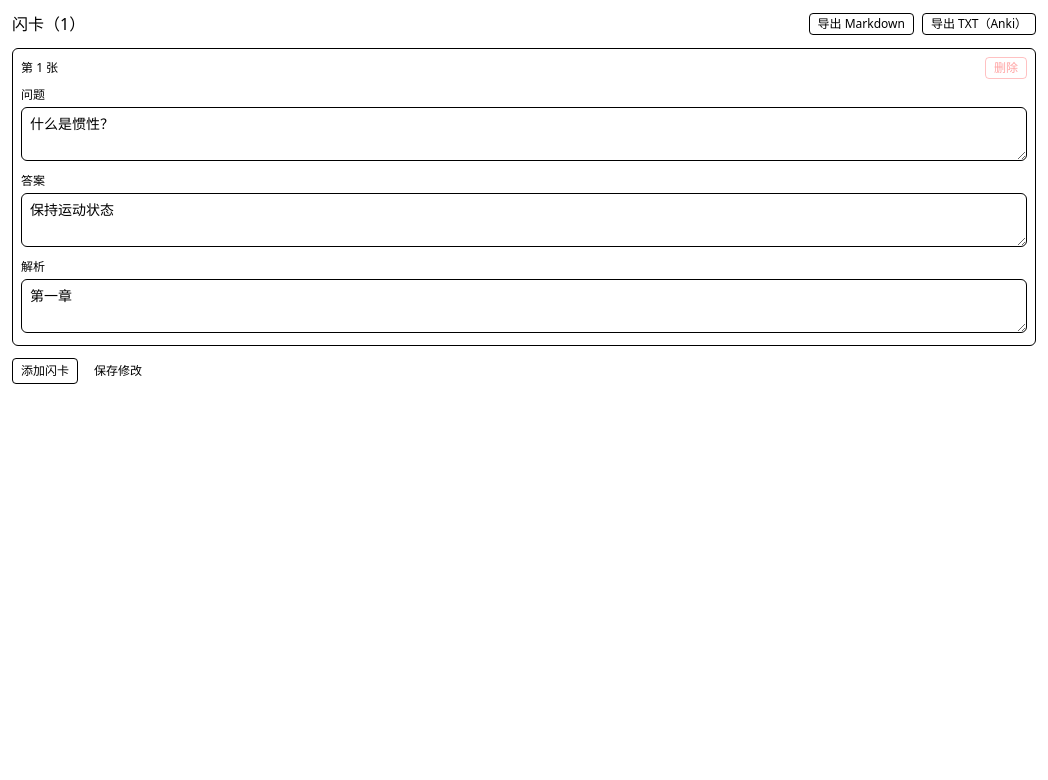
Test: FlashcardEditor › adds and removes cards
This screenshot has width=1048, height=780.
What coordinates should you click on to do the following:
click the button "添加闪卡"
I would click on:
 (45, 371)
Its box is [12, 358, 78, 384].
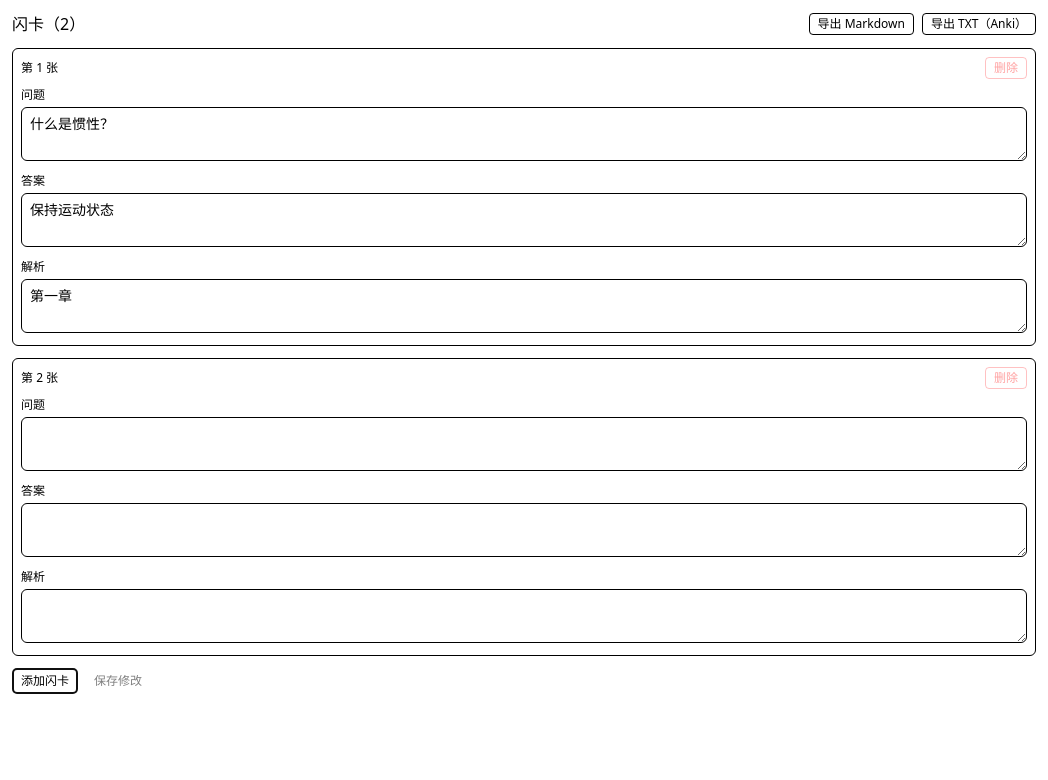
expect the text box named "问题 2" is shown: met, box [21, 417, 1027, 471]
What coordinates should you click on to do the following:
click the 1st button "删除"
I would click on:
 (1006, 68)
Its box is [985, 57, 1027, 79].
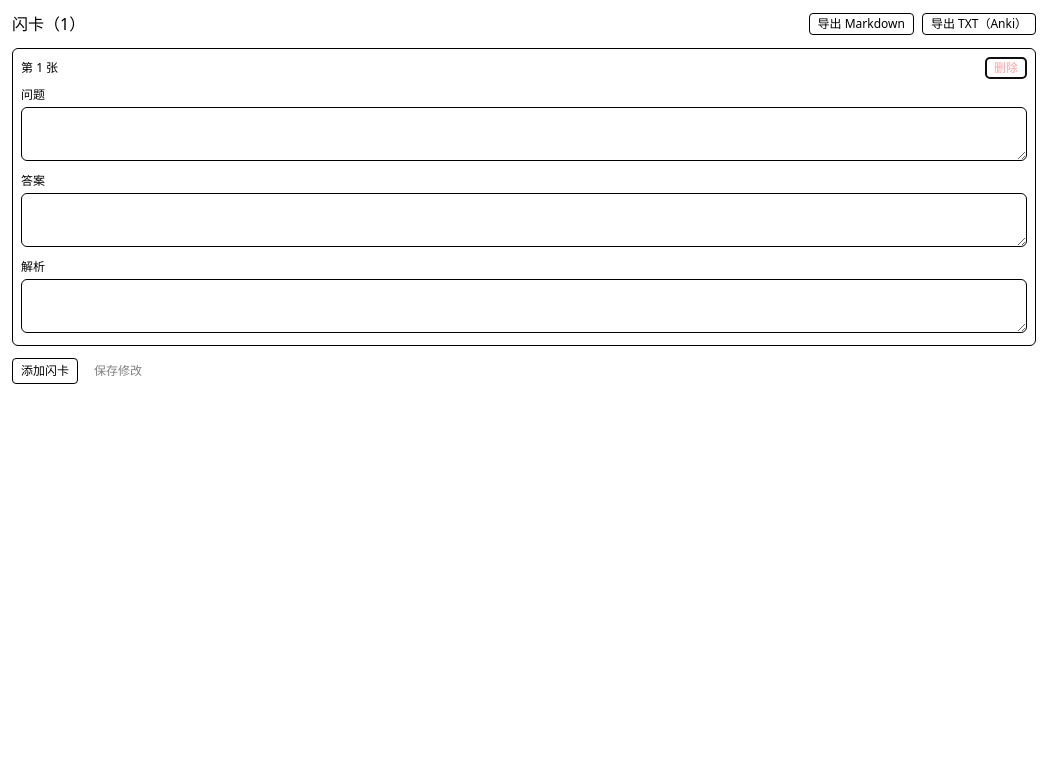
expect the heading "闪卡（1）" is shown: met, box [12, 12, 85, 36]
